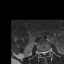CCS_stenosis: (43, 49, 45, 57)
LFS_normal: (47, 48, 49, 54)
LLS_normal: (45, 48, 47, 56)
RFS_normal: (39, 49, 41, 55)
RLS_normal: (41, 49, 43, 55)
